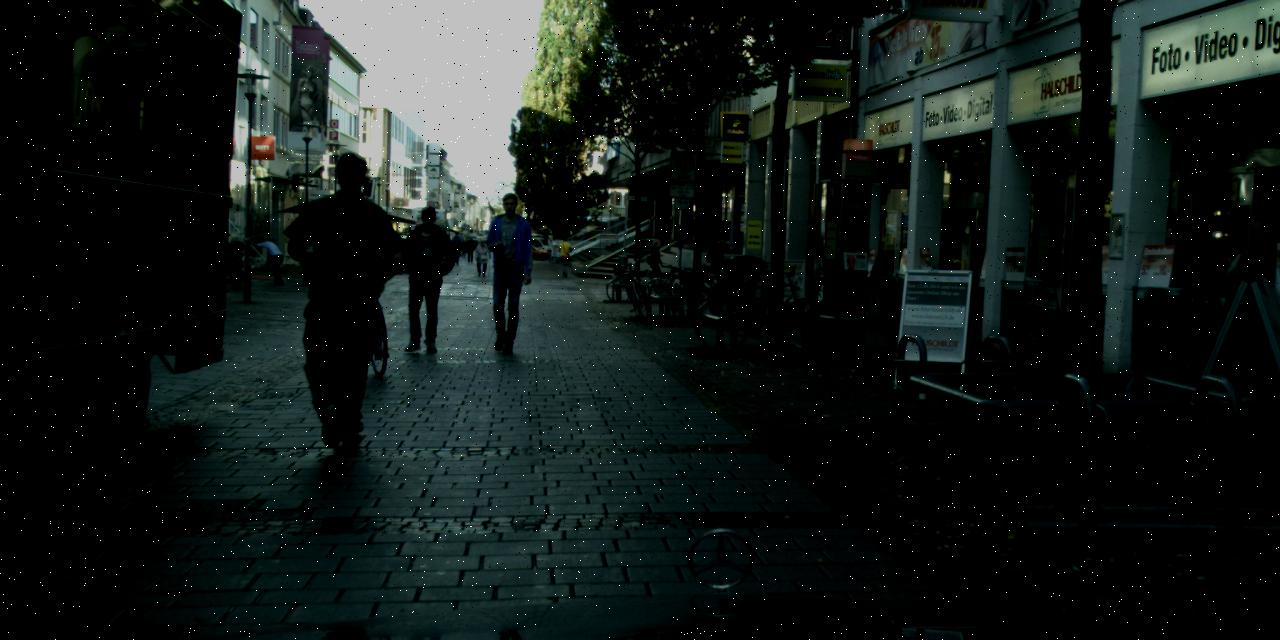ped: (283, 150, 404, 444), (474, 192, 540, 352), (396, 205, 454, 350), (262, 236, 282, 286), (646, 238, 666, 286), (709, 236, 728, 283), (556, 233, 572, 276), (474, 238, 490, 276), (448, 230, 462, 266), (465, 236, 476, 263), (459, 238, 466, 257)
